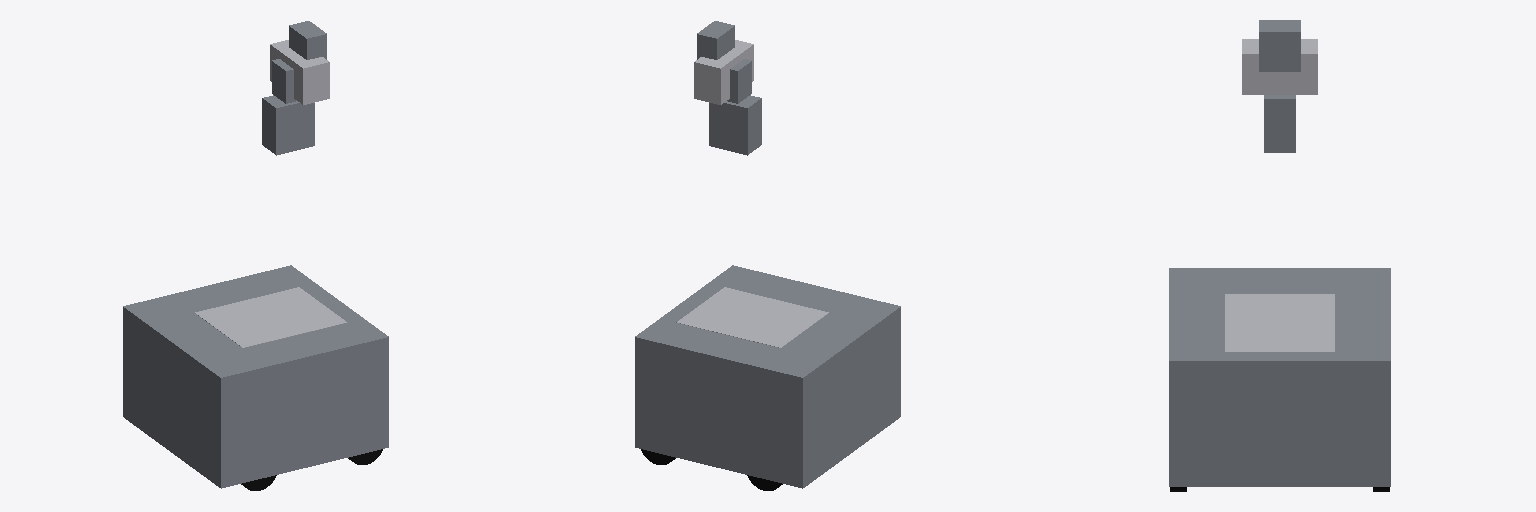
URDF robot description (opendubs):
<?xml version="1.0"?>
<!-- GENERATED by description/opendubs/gen_urdf.py from dimensions.yaml. Do not edit:
     change dimensions.yaml and re-run the generator.
     Head assembly fitted: galaxy_tablet; Femto mount: tilt30.
     base_link: centre of the wheel rectangle, axle height (workplan-thor-stack L.1).
     Movable joints zaxis / head_pan / head_tilt need a joint_states source.
     LEFT OUT (no CAD or measured position in the repo yet):
       - pinpoint_link (pinpoint)
       - tablet_front_camera_link (galaxy_tablet)
       - tablet_front_camera_optical_frame (follows tablet_front_camera_link)
       - tablet_rear_camera_link (galaxy_tablet)
       - tablet_rear_camera_optical_frame (follows tablet_rear_camera_link)
       - tablet_gps_link (galaxy_tablet)
       - tablet_imu_link (galaxy_tablet) -->
<robot name="opendubs">
  <material name="frame"><color rgba="0.55 0.57 0.6 1"/></material>
  <material name="plate"><color rgba="0.75 0.75 0.78 1"/></material>
  <material name="rubber"><color rgba="0.1 0.1 0.1 1"/></material>
  <link name="base_link"/>
  <link name="base_footprint"/>
  <joint name="base_footprint_joint" type="fixed">
    <parent link="base_link"/>
    <child link="base_footprint"/>
    <origin xyz="0 0 -0.07" rpy="0 0 0"/>
  </joint>
  <link name="datum">
    <visual>
      <origin xyz="0.29 0 0.154" rpy="0 0 0"/>
      <geometry><box size="0.644 0.649 0.404"/></geometry>
      <material name="frame"/>
    </visual>
  </link>
  <joint name="datum_joint" type="fixed">
    <parent link="base_link"/>
    <child link="datum"/>
    <origin xyz="-0.324 0 0.024" rpy="0 0 0"/>
  </joint>
  <link name="wheel_fl">
    <visual>
      <origin xyz="0 0 0" rpy="1.570796 0 0"/>
      <geometry><cylinder radius="0.07" length="0.05"/></geometry>
      <material name="rubber"/>
    </visual>
  </link>
  <joint name="wheel_fl_joint" type="fixed">
    <parent link="datum"/>
    <child link="wheel_fl"/>
    <origin xyz="0.528 0.2945 -0.024" rpy="0 0 0"/>
  </joint>
  <link name="wheel_fr">
    <visual>
      <origin xyz="0 0 0" rpy="1.570796 0 0"/>
      <geometry><cylinder radius="0.07" length="0.05"/></geometry>
      <material name="rubber"/>
    </visual>
  </link>
  <joint name="wheel_fr_joint" type="fixed">
    <parent link="datum"/>
    <child link="wheel_fr"/>
    <origin xyz="0.528 -0.2945 -0.024" rpy="0 0 0"/>
  </joint>
  <link name="wheel_rl">
    <visual>
      <origin xyz="0 0 0" rpy="1.570796 0 0"/>
      <geometry><cylinder radius="0.07" length="0.05"/></geometry>
      <material name="rubber"/>
    </visual>
  </link>
  <joint name="wheel_rl_joint" type="fixed">
    <parent link="datum"/>
    <child link="wheel_rl"/>
    <origin xyz="0.12 0.2945 -0.024" rpy="0 0 0"/>
  </joint>
  <link name="wheel_rr">
    <visual>
      <origin xyz="0 0 0" rpy="1.570796 0 0"/>
      <geometry><cylinder radius="0.07" length="0.05"/></geometry>
      <material name="rubber"/>
    </visual>
  </link>
  <joint name="wheel_rr_joint" type="fixed">
    <parent link="datum"/>
    <child link="wheel_rr"/>
    <origin xyz="0.12 -0.2945 -0.024" rpy="0 0 0"/>
  </joint>
  <link name="laser"/>
  <joint name="laser_joint" type="fixed">
    <parent link="datum"/>
    <child link="laser"/>
    <origin xyz="0.55438 0 0.2413" rpy="0 0 3.141593"/>
  </joint>
  <link name="laser_rear"/>
  <joint name="laser_rear_joint" type="fixed">
    <parent link="datum"/>
    <child link="laser_rear"/>
    <origin xyz="-0.199578 0 0.2413" rpy="0 0 0"/>
  </joint>
  <link name="lift_platform">
    <visual>
      <origin xyz="0.348 0 0.3571" rpy="0 0 0"/>
      <geometry><box size="0.4 0.32 0.001"/></geometry>
      <material name="plate"/>
    </visual>
    <visual>
      <origin xyz="0.4147 0 1.055875" rpy="0 0 0"/>
      <geometry><box size="0.14778 0.094 0.172"/></geometry>
      <material name="frame"/>
    </visual>
  </link>
  <joint name="zaxis" type="prismatic">
    <parent link="datum"/>
    <child link="lift_platform"/>
    <origin xyz="0 0 0" rpy="0 0 0"/>
    <axis xyz="0 0 1"/>
    <limit lower="0" upper="0.2751" effort="0" velocity="0"/>
  </joint>
  <link name="arm_mount"/>
  <joint name="arm_mount_joint" type="fixed">
    <parent link="lift_platform"/>
    <child link="arm_mount"/>
    <origin xyz="0.423 0 0.3575" rpy="0 0 0"/>
  </joint>
  <link name="head_pan_link">
    <visual>
      <origin xyz="-0.01 0 -0.0357" rpy="0 0 0"/>
      <geometry><box size="0.072 0.095 0.12"/></geometry>
      <material name="frame"/>
    </visual>
  </link>
  <joint name="head_pan" type="revolute">
    <parent link="lift_platform"/>
    <child link="head_pan_link"/>
    <origin xyz="0.423 0 1.245575" rpy="0 0 0"/>
    <axis xyz="0 0 1"/>
    <limit lower="-2.617994" upper="2.617994" effort="0" velocity="0"/>
  </joint>
  <link name="head_tilt_link">
    <visual>
      <origin xyz="0.03494 0 -0.015" rpy="0 0 0"/>
      <geometry><box size="0.10162 0.221 0.134"/></geometry>
      <material name="plate"/>
    </visual>
  </link>
  <joint name="head_tilt" type="revolute">
    <parent link="head_pan_link"/>
    <child link="head_tilt_link"/>
    <origin xyz="0 0 0" rpy="0 0 0"/>
    <axis xyz="0 1 0"/>
    <limit lower="-1.636246" upper="0.274889" effort="0" velocity="0"/>
  </joint>
  <link name="head_screen_link"/>
  <joint name="head_screen_link_joint" type="fixed">
    <parent link="head_tilt_link"/>
    <child link="head_screen_link"/>
    <origin xyz="0.0828 -0.00035 -0.01515" rpy="0 0 0"/>
  </joint>
  <link name="femto_mount_link">
    <visual>
      <origin xyz="0.00983 0 0.014455" rpy="0 0 0"/>
      <geometry><box size="0.07844 0.1211 0.12829"/></geometry>
      <material name="frame"/>
    </visual>
  </link>
  <joint name="femto_mount_link_joint" type="fixed">
    <parent link="head_tilt_link"/>
    <child link="femto_mount_link"/>
    <origin xyz="0.05575 0 0.052" rpy="0 0 0"/>
  </joint>
  <link name="camera_link"/>
  <joint name="camera_link_joint" type="fixed">
    <parent link="femto_mount_link"/>
    <child link="camera_link"/>
    <origin xyz="0.039004 -0.03 0.025341" rpy="0 0.628319 0"/>
  </joint>
</robot>

--- Facts derived from the render (not from the file) ---
The picture shows the robot from 3 angles, left to right: view 1: azimuth 30°, elevation 25°; view 2: azimuth 150°, elevation 25°; view 3: azimuth 270°, elevation 25°; orthographic projection.
Model opendubs with 16 links and 15 joints (2 revolute, 1 prismatic, 12 fixed), rooted at base_link, posed every joint at zero.
Links seen in each view (by area): view 1: datum, lift_platform, head_tilt_link, femto_mount_link, head_pan_link; view 2: datum, lift_platform, head_tilt_link, femto_mount_link, head_pan_link; view 3: datum, lift_platform, head_tilt_link, femto_mount_link.
Link boxes in pixels (box(x1,y1,x2,y2)): datum: box(123, 265, 388, 488); lift_platform: box(195, 95, 347, 347); head_tilt_link: box(270, 40, 329, 104); femto_mount_link: box(289, 21, 326, 59); head_pan_link: box(272, 59, 296, 103); datum: box(635, 265, 900, 488); lift_platform: box(676, 95, 828, 347); head_tilt_link: box(694, 40, 753, 104); femto_mount_link: box(697, 21, 734, 59); head_pan_link: box(727, 59, 751, 103); datum: box(1169, 268, 1390, 486); lift_platform: box(1225, 95, 1334, 351); head_tilt_link: box(1242, 39, 1317, 94); femto_mount_link: box(1259, 20, 1300, 71).
Size in the robot's own frame: 0.644 by 0.649 by 1.47 metres.
Geometry: primitives only (box / cylinder / sphere), no mesh files.
